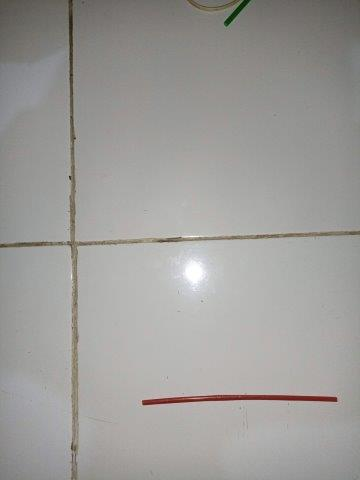sedotan: (142, 394, 337, 406)
